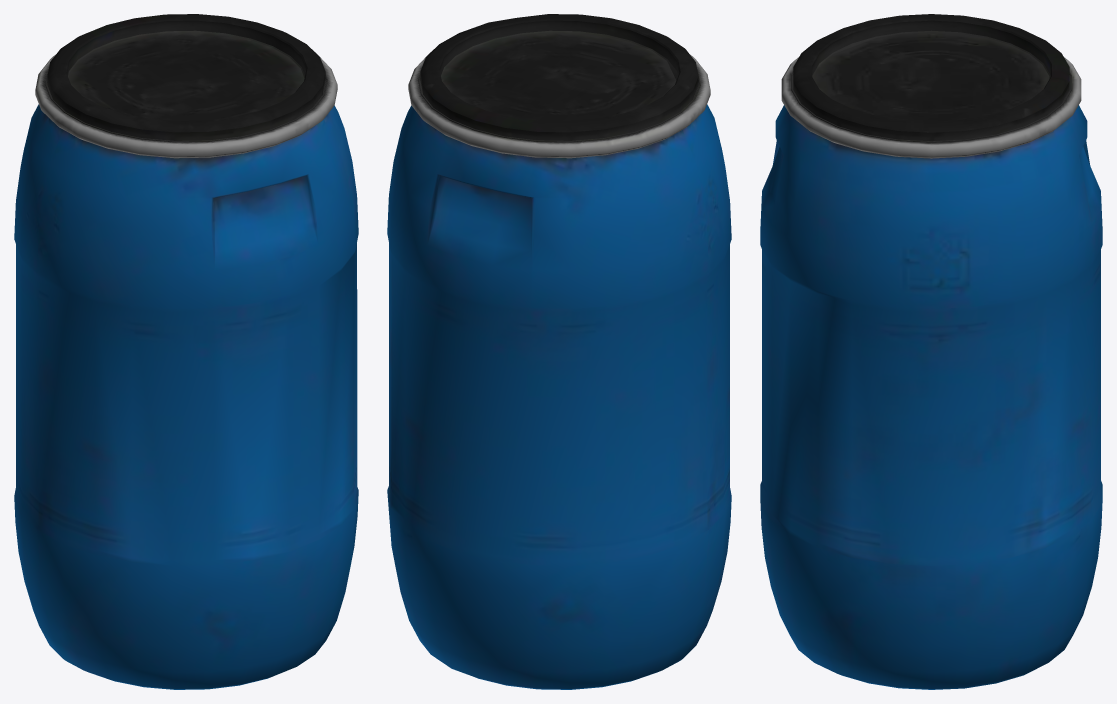
File: Barrel_02.glb
The picture shows the model from 3 angles, left to right: view 1: azimuth 30°, elevation 25°; view 2: azimuth 150°, elevation 25°; view 3: azimuth 270°, elevation 25°; orthographic projection.
Visible parts, largest first — view 1: Barrel_02; view 2: Barrel_02; view 3: Barrel_02.
Boxes of the visible parts, <box> form: Barrel_02: <box>14,14,358,689</box>; Barrel_02: <box>387,14,731,689</box>; Barrel_02: <box>760,14,1102,689</box>.
Size of the model in its own units: 0.4882 by 0.88 by 0.4846.
Materials: 1 (1 with a texture image).
